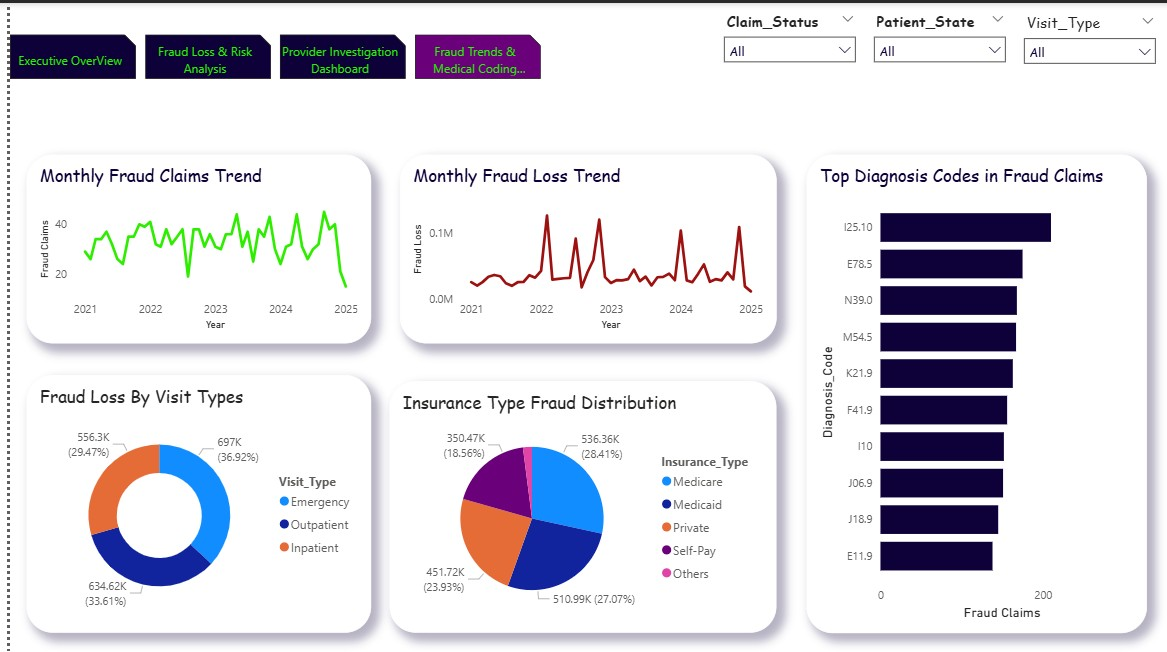

What the dashboard file says about the page in this screenshot:
{"tool":"powerbi","page":{"name":"Fraud Trends & Medical Coding Analysis","canvas":[1280,720],"ordinal":3},"visuals":[{"type":"slicer","fields":{"Values":["Health_Care_Fraud_Detection.Claim_Status"]},"box":[778.5,3.3,165.6,67.9],"z":0,"group":"g1"},{"type":"lineChart","title":"Monthly Fraud Claims Trend ","fields":{"Y":["Health_Care_Fraud_Detection.Fraud Claims"],"Category":["Health_Care_Fraud_Detection.Claim_Submission_Date.Variation.Date Hierarchy.Year","Health_Care_Fraud_Detection.Claim_Submission_Date.Variation.Date Hierarchy.Month"]},"box":[18.2,167.3,381,208.7],"z":0},{"type":"lineChart","title":"Monthly Fraud Loss Trend ","fields":{"Category":["Health_Care_Fraud_Detection.Claim_Submission_Date.Variation.Date Hierarchy.Year","Health_Care_Fraud_Detection.Claim_Submission_Date.Variation.Date Hierarchy.Month"],"Y":["Health_Care_Fraud_Detection.Fraud Loss"]},"box":[430.7,167.3,415.8,208.7],"z":1},{"type":"clusteredBarChart","title":"Top Diagnosis Codes in Fraud Claims","fields":{"Category":["Health_Care_Fraud_Detection.Diagnosis_Code"],"Y":["Health_Care_Fraud_Detection.Fraud Claims"]},"box":[879.6,167.3,376,528.4],"z":2},{"type":"donutChart","title":"Fraud Loss By Visit Types","fields":{"Y":["Health_Care_Fraud_Detection.Fraud Loss"],"Category":["Health_Care_Fraud_Detection.Visit_Type"]},"box":[18.2,410.8,381,284.9],"z":3},{"type":"pieChart","title":"Insurance Type Fraud Distribution","fields":{"Y":["Health_Care_Fraud_Detection.Fraud Loss"],"Category":["Health_Care_Fraud_Detection.Insurance_Type"]},"box":[419.1,417.4,427.4,278.3],"z":4},{"type":"pageNavigator","box":[0,34.8,588.1,49.7],"z":5},{"type":"group","id":"g1","title":"Group 1","box":[778.5,3.3,496.9,69.6],"z":6},{"type":"slicer","fields":{"Values":["Health_Care_Fraud_Detection.Patient_State"]},"box":[944.1,3.3,165.6,67.9],"z":1000,"group":"g1"},{"type":"slicer","fields":{"Values":["Health_Care_Fraud_Detection.Visit_Type"]},"box":[1109.8,5,165.6,67.9],"z":2000,"group":"g1"}]}

Visuals, with their boxes on the page's 1280x720 design canvas (x1, y1, x2, y2). These are canvas units, not pixel positions in the 1167x652 screenshot, which may show the page scaled, cropped or inside an application window:
slicer - Health_Care_Fraud_Detection.Claim_Status: [left=778, top=3, right=944, bottom=71]
"Monthly Fraud Claims Trend " lineChart: [left=18, top=167, right=399, bottom=376]
"Monthly Fraud Loss Trend " lineChart: [left=431, top=167, right=846, bottom=376]
"Top Diagnosis Codes in Fraud Claims" clusteredBarChart: [left=880, top=167, right=1256, bottom=696]
"Fraud Loss By Visit Types" donutChart: [left=18, top=411, right=399, bottom=696]
"Insurance Type Fraud Distribution" pieChart: [left=419, top=417, right=846, bottom=696]
pageNavigator: [left=0, top=35, right=588, bottom=84]
"Group 1" group: [left=778, top=3, right=1275, bottom=73]
slicer - Health_Care_Fraud_Detection.Patient_State: [left=944, top=3, right=1110, bottom=71]
slicer - Health_Care_Fraud_Detection.Visit_Type: [left=1110, top=5, right=1275, bottom=73]
